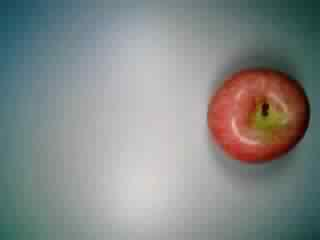apple: (206, 68, 314, 166)
